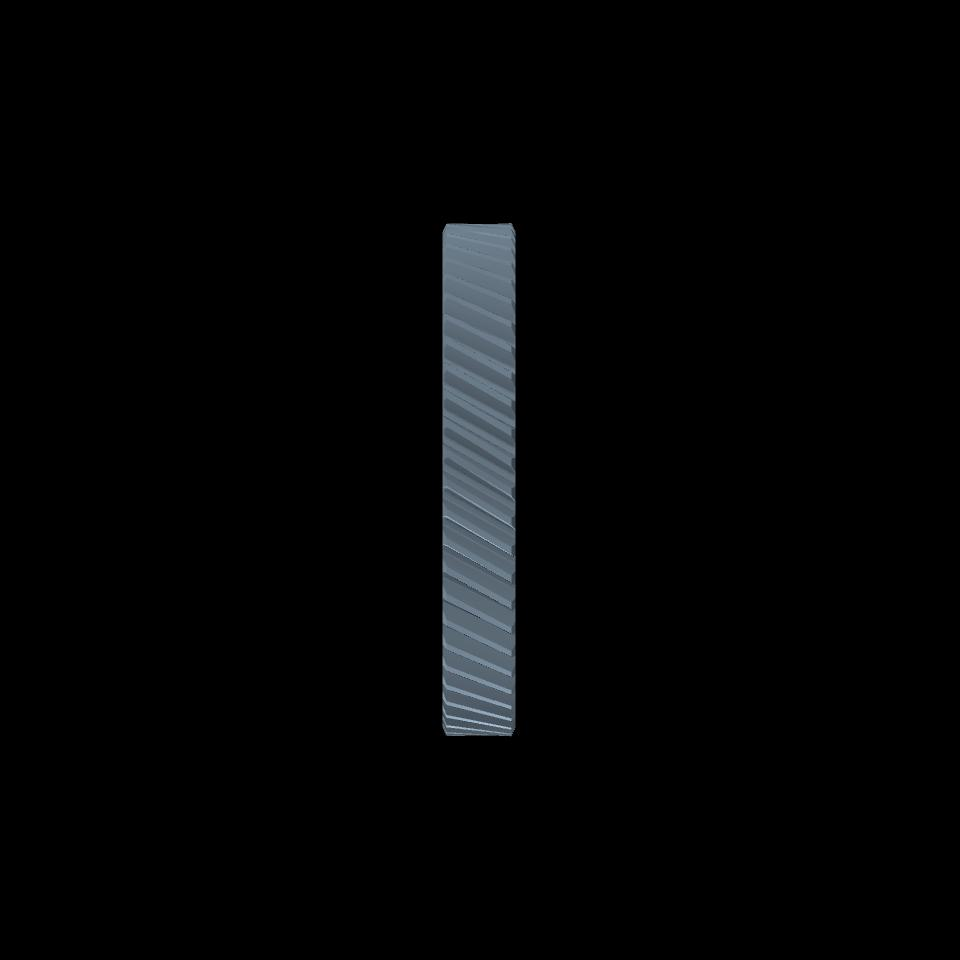Helical: (447, 224, 510, 735)
